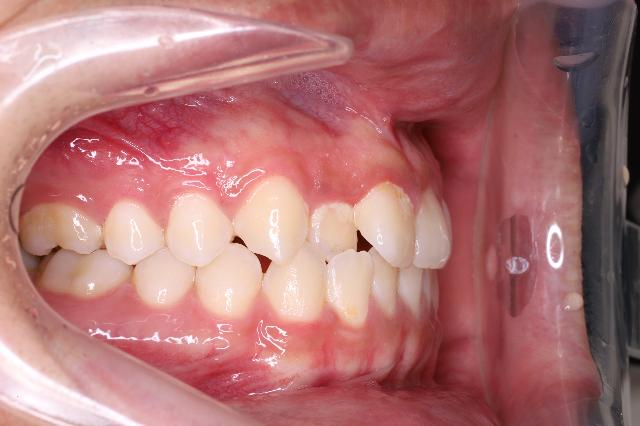canine class II 1/4: (192, 163, 328, 331)
molar class I: (16, 198, 130, 308)
